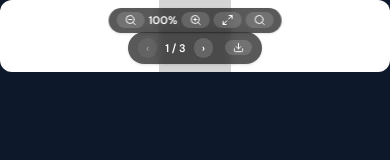
Test: UniversalDocumentPreview · unified PDF viewer › renders multi-page PDFs with pagination controls and navigates pages
The width and height of the screenshot is (390, 160).
Expected: the text with test id "pdf-page-indicator" reads "1 / 3", [165,40,186,56]
Click the button named "Next page". click: coordinates (203, 48)
box: [194,38,213,58]
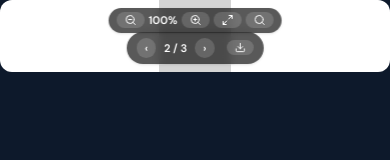
Now the text with test id "pdf-page-indicator" reads "2 / 3", box [164,40,187,56]
